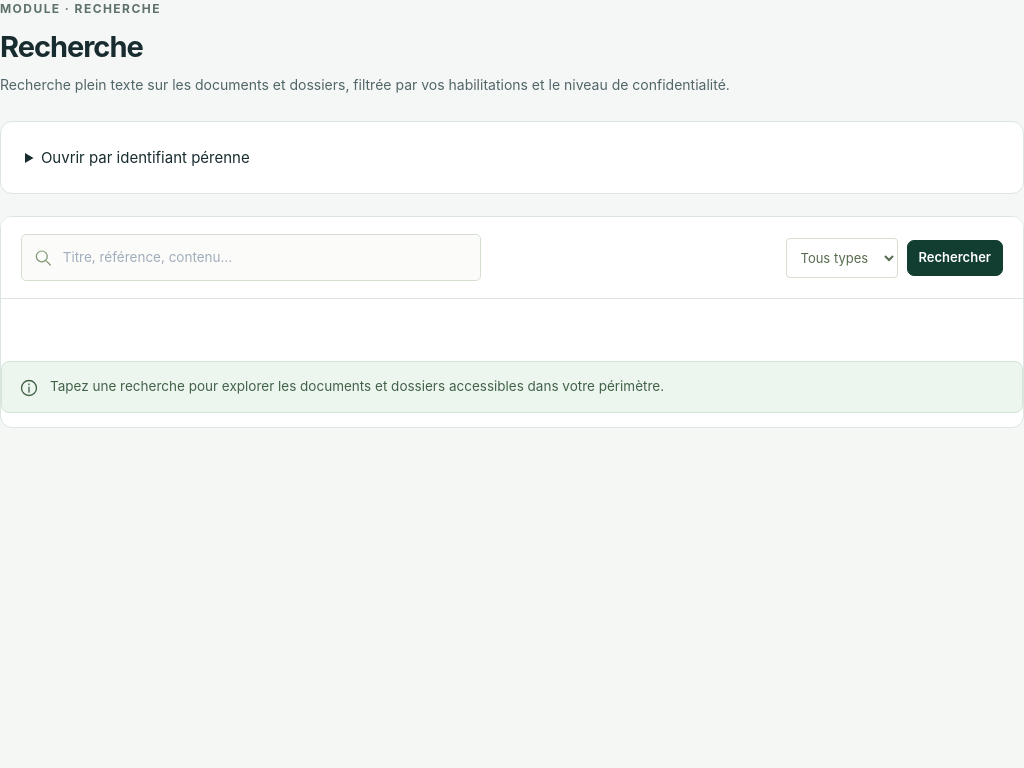
Test: ouvre depuis la recherche la page de ALPHA avec les deux occurrences surlignées
Type "ALPHA" into the field named "Rechercher" at (265, 258), box [63,236,468,280]
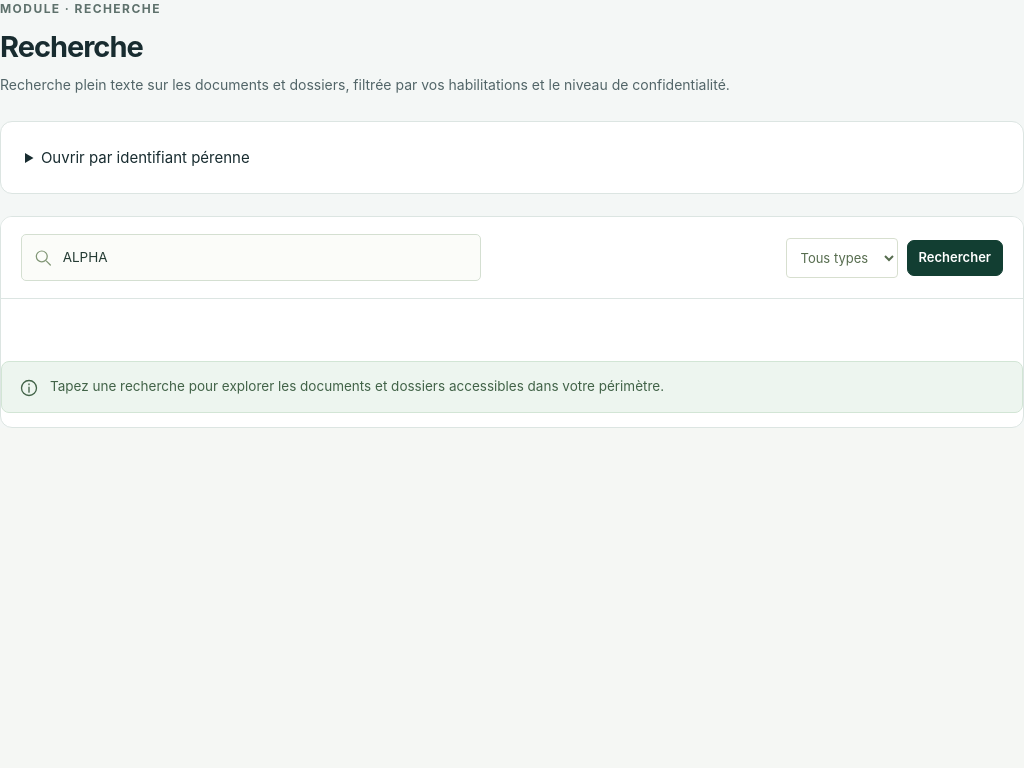
Click the button "Rechercher" at (955, 258), box [906,240,1003,276]
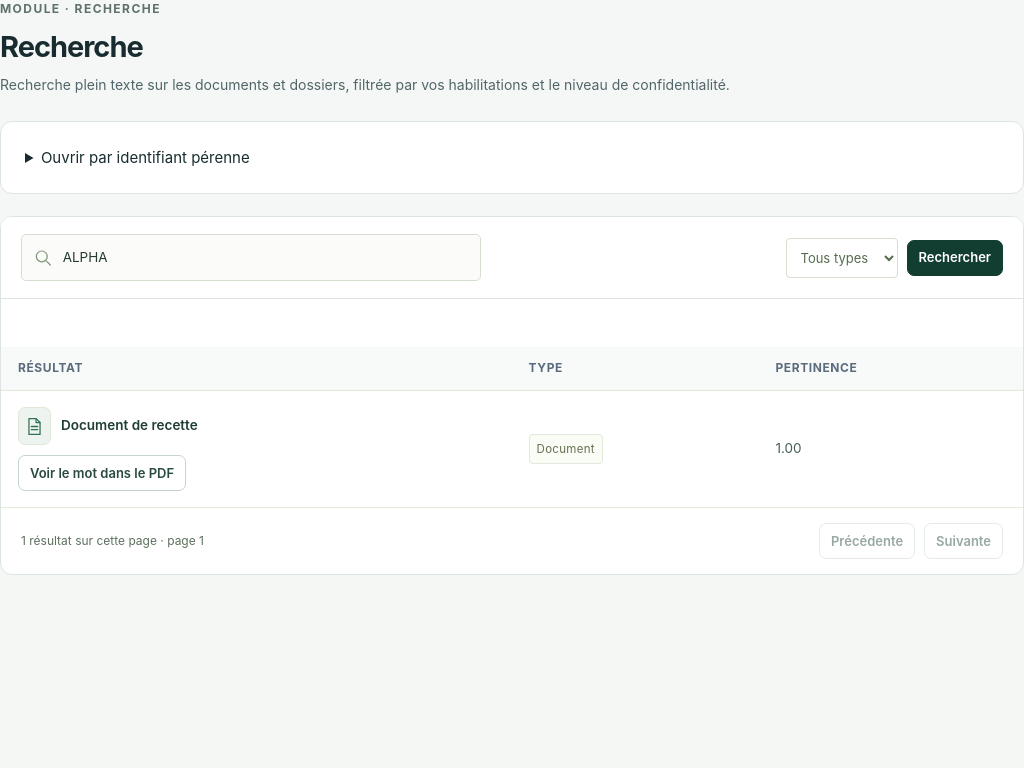
Click the button "Voir le mot dans le PDF" at (102, 473), box [18,455,186,491]
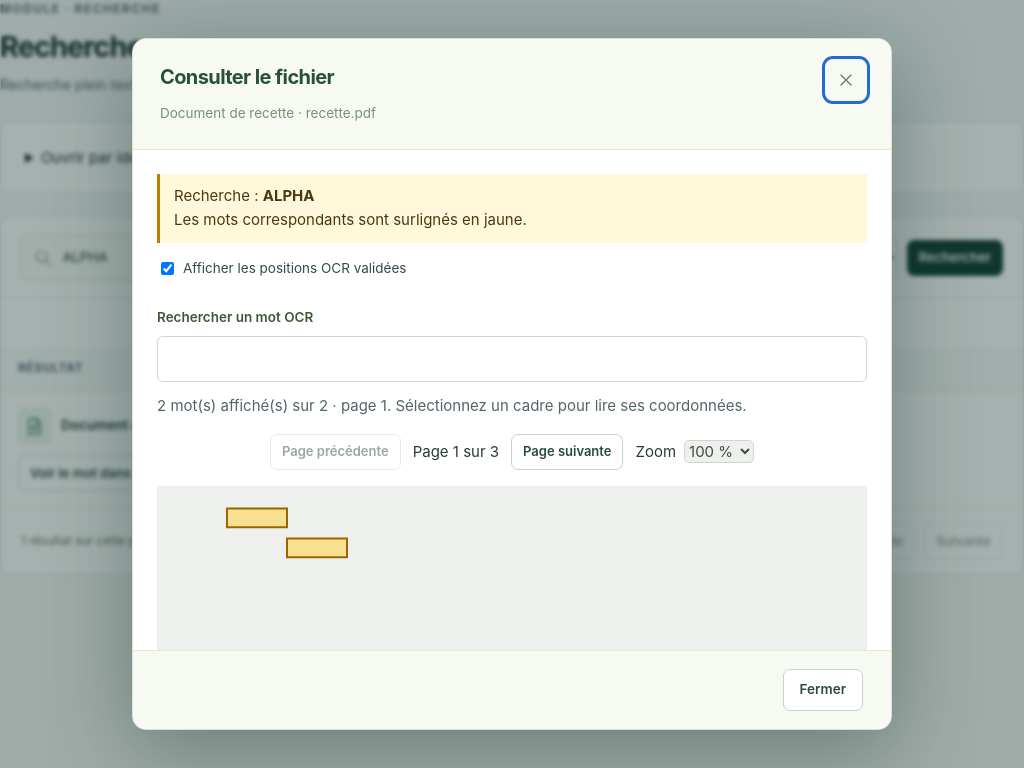
Click the button "Fermer" at (823, 690), box [782,669,863,711]
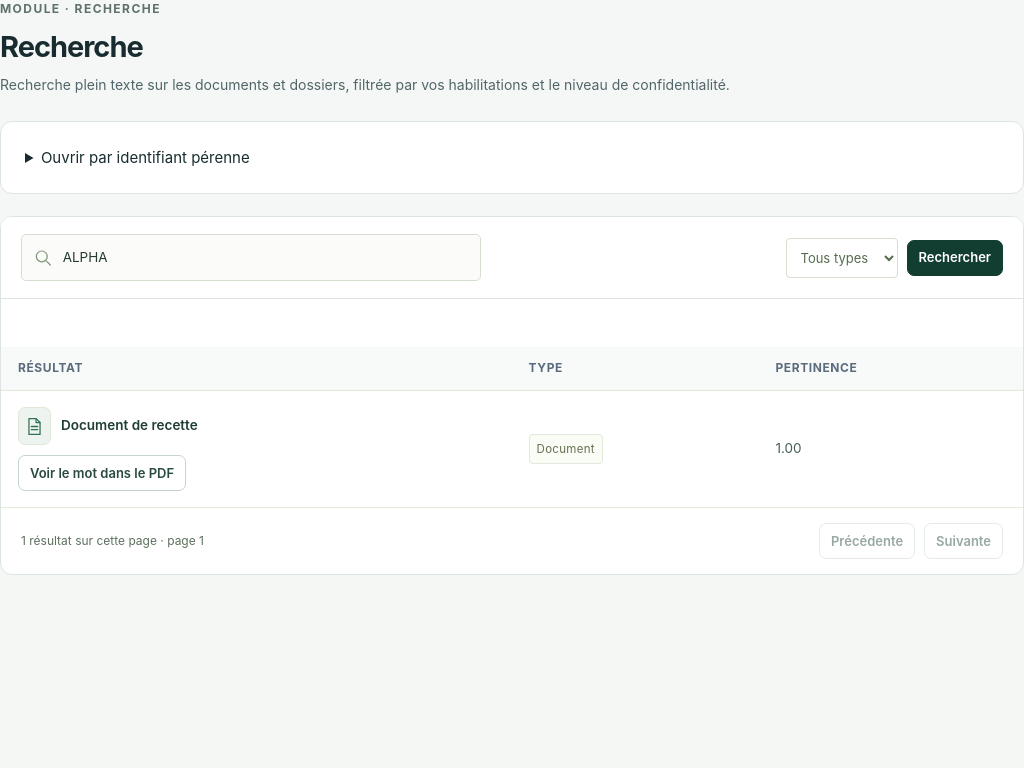
Now the dialog is gone
